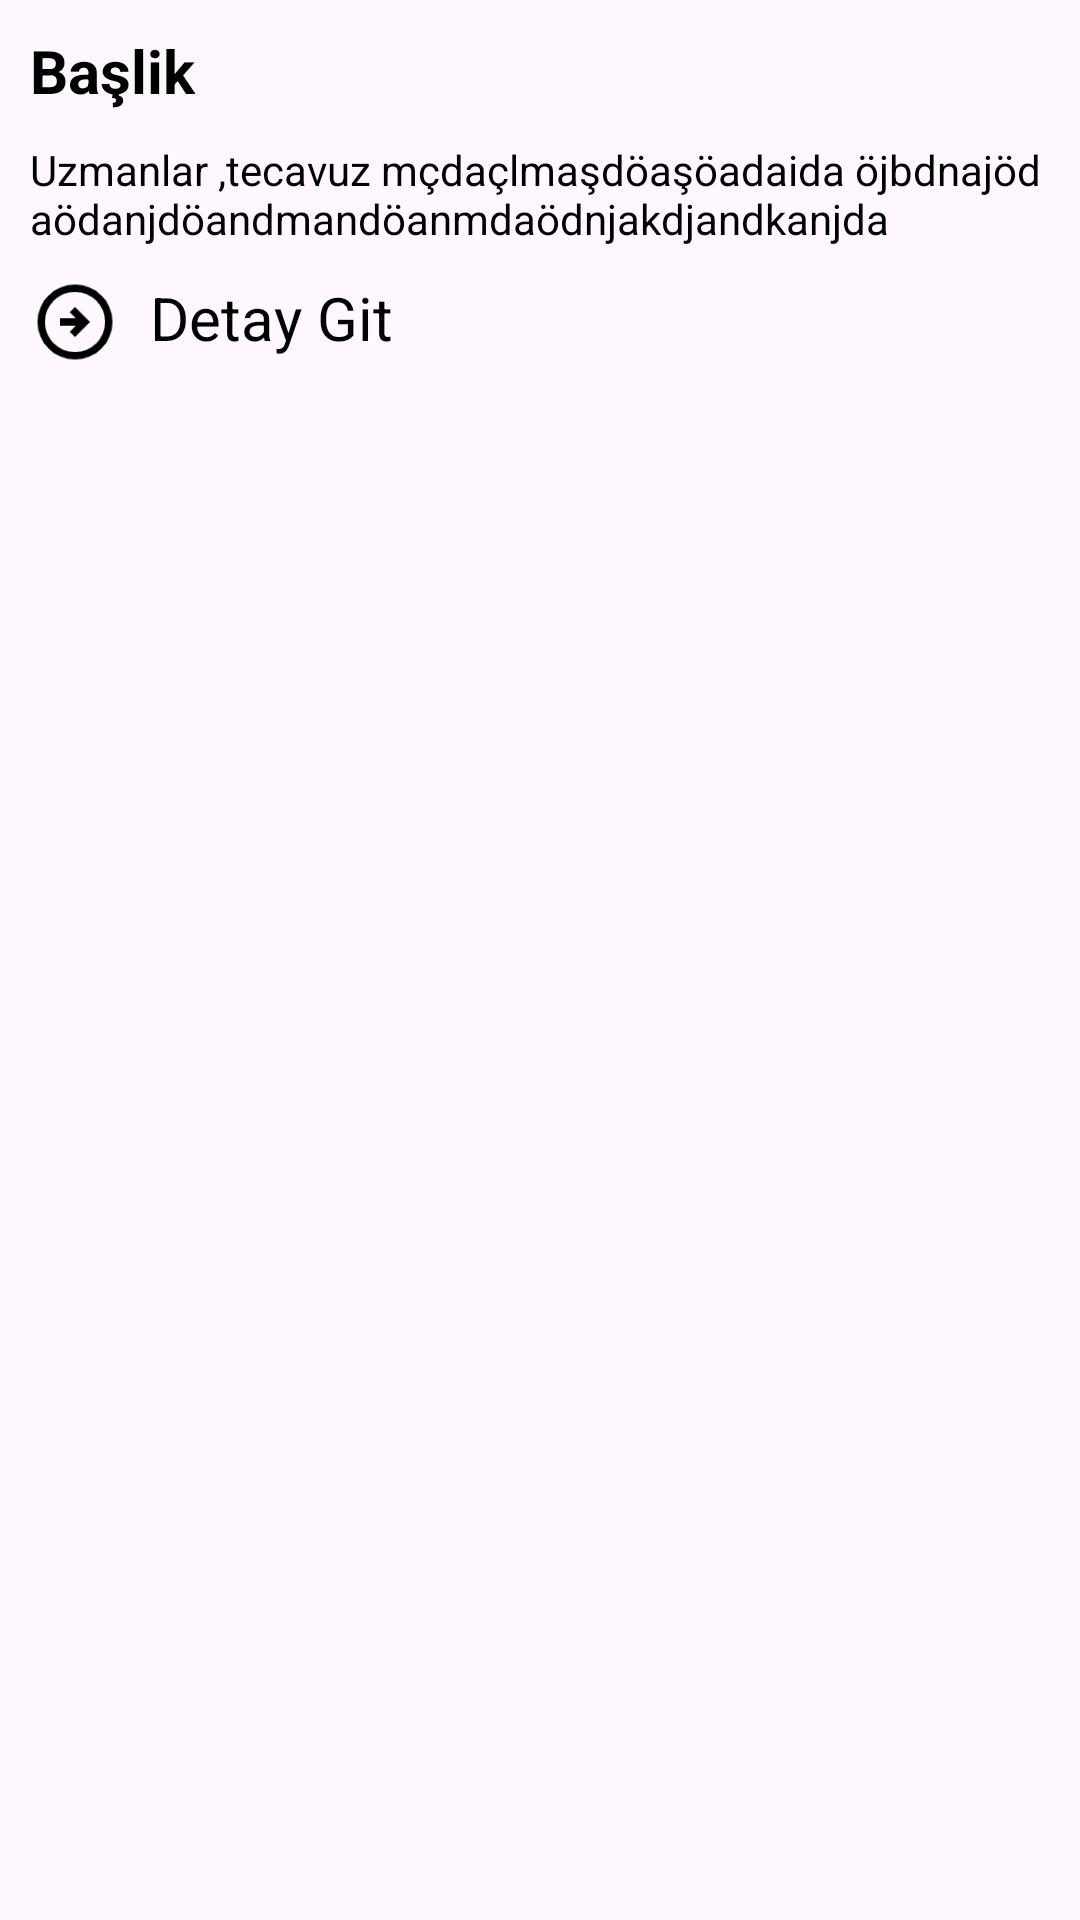

Icons on this 1080px x 1920px Android screen, each with the point to tap as (x,y):
yon: (75,322)
